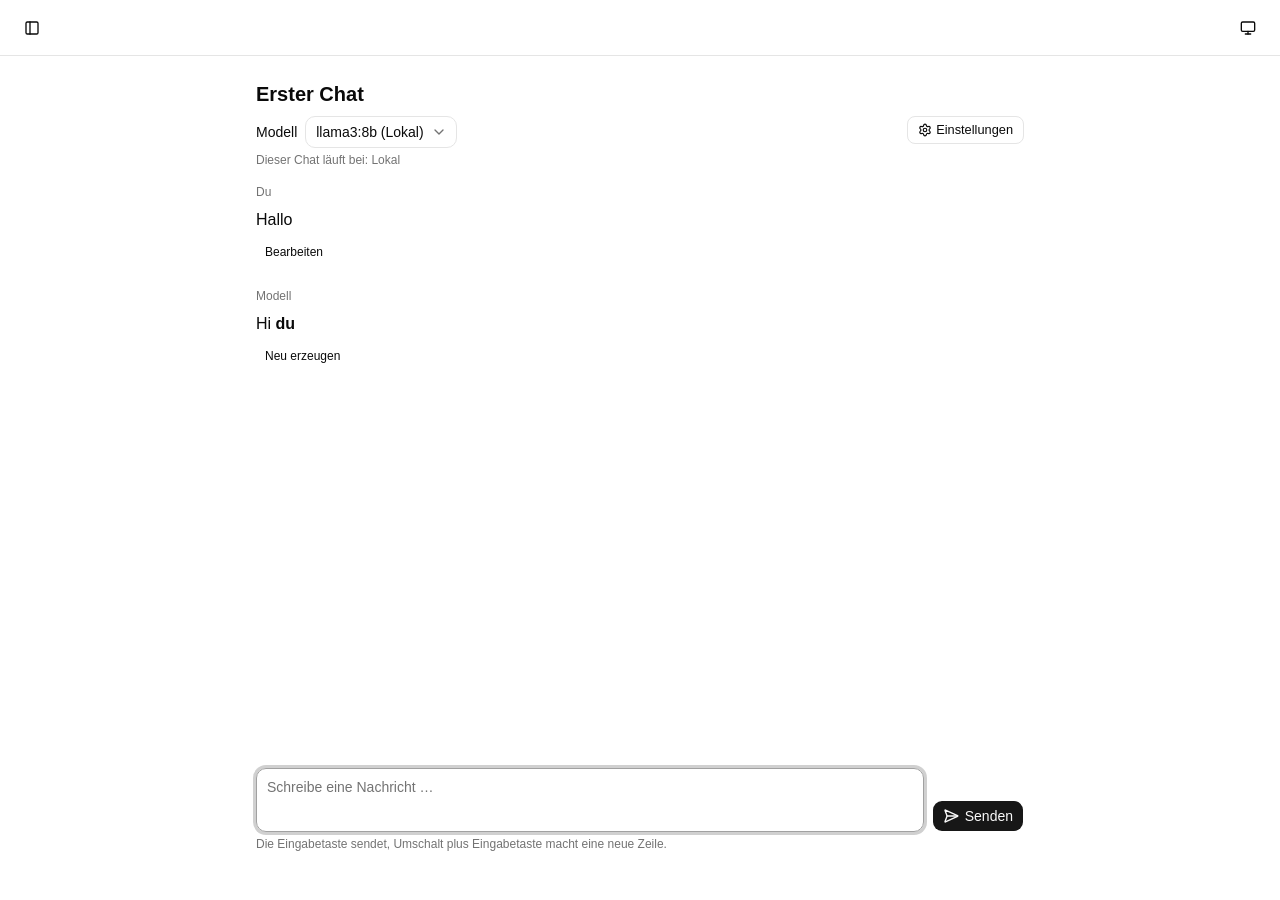
Scenario: ChatPage: sending › sends once when Enter comes twice before the page renders again
Expected: the heading "Erster Chat" is shown, x1=256 y1=83 x2=364 y2=105
Type "Eins" into the text box labelled "Nachricht".
click(590, 800); type("Eins")  # box x1=256 y1=768 x2=924 y2=832
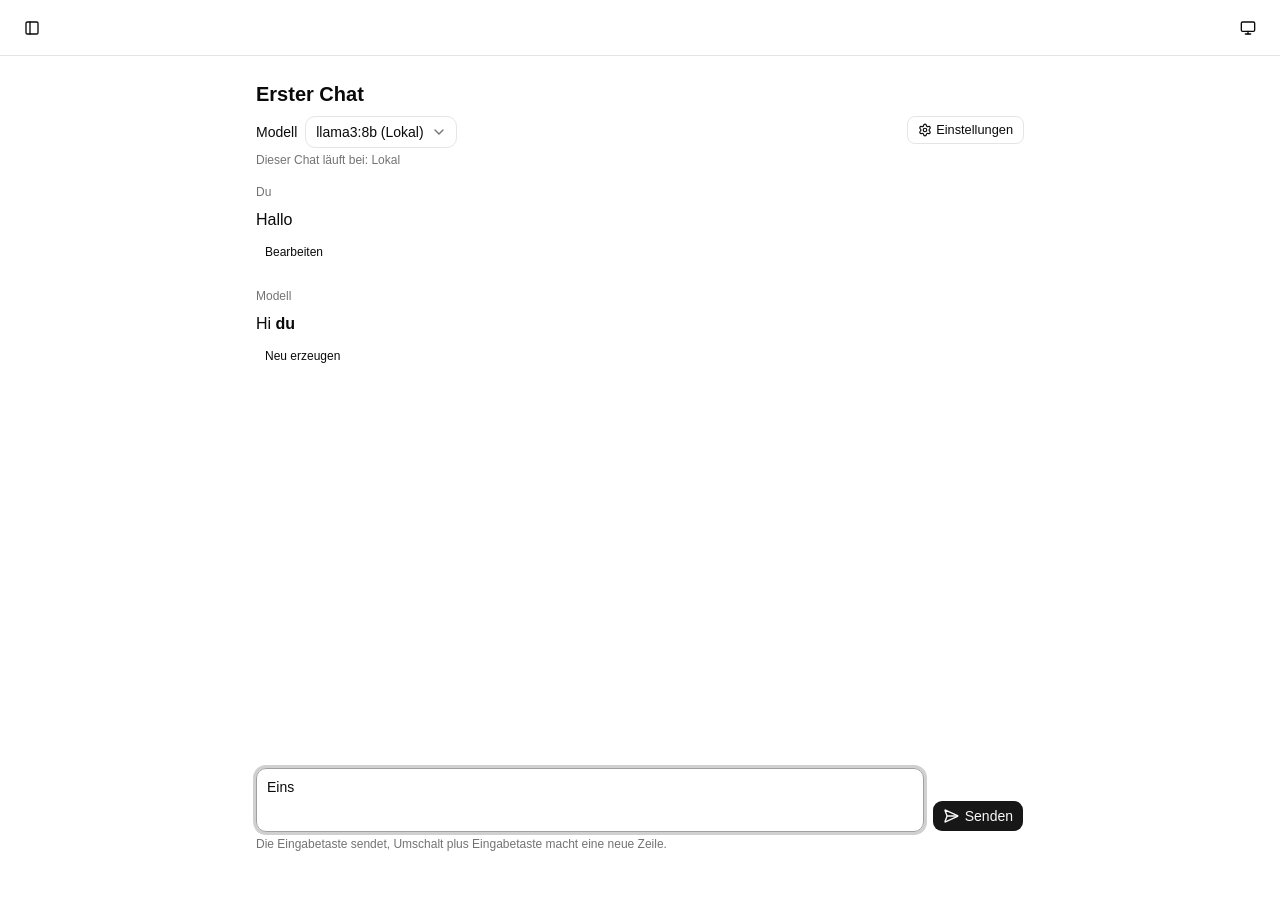
Press Enter in the text box named "Nachricht", box x1=256 y1=768 x2=924 y2=832
Press Enter in the text box named "Nachricht", box x1=256 y1=768 x2=924 y2=832
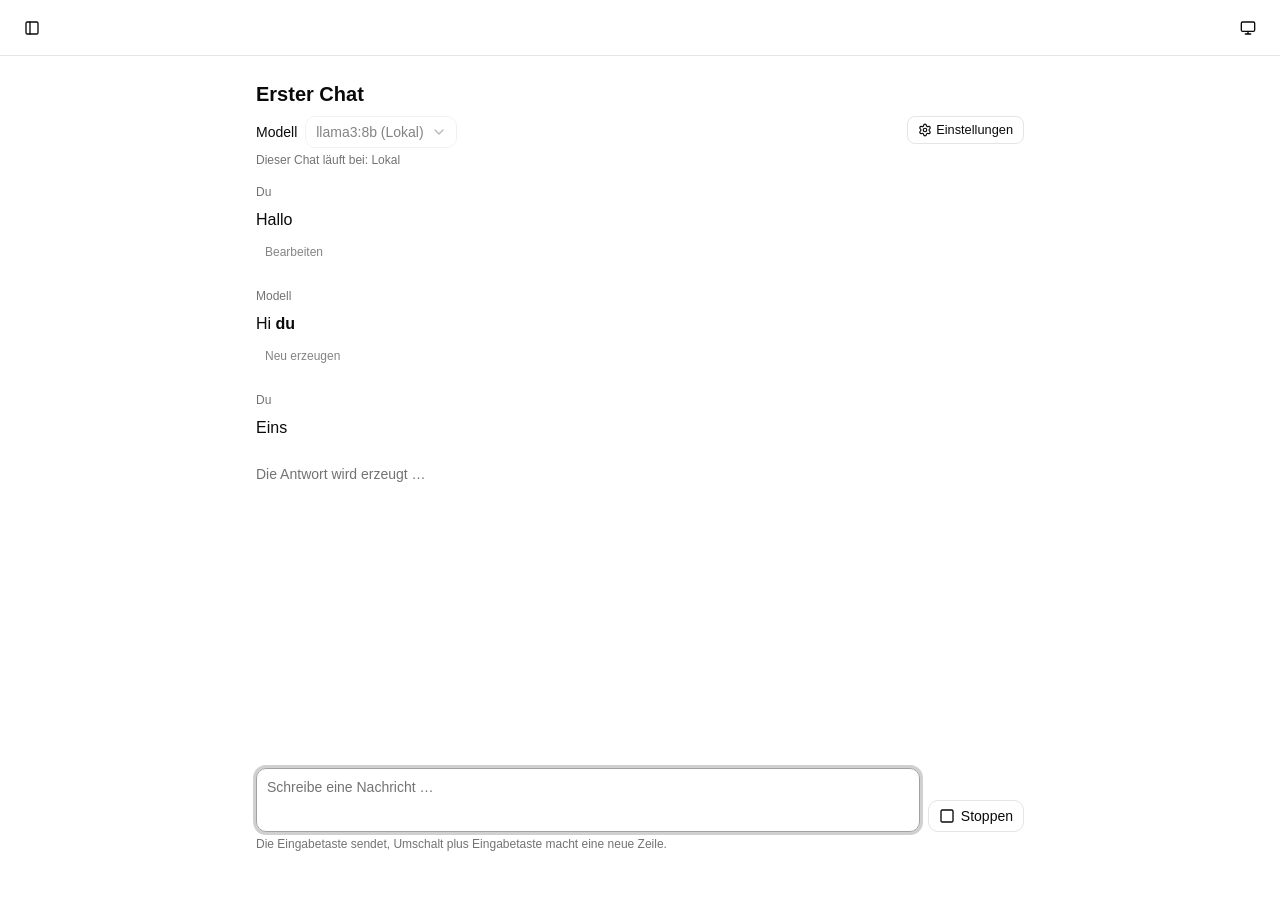
Expected: the text "Eins" is shown once, x1=256 y1=419 x2=287 y2=436
